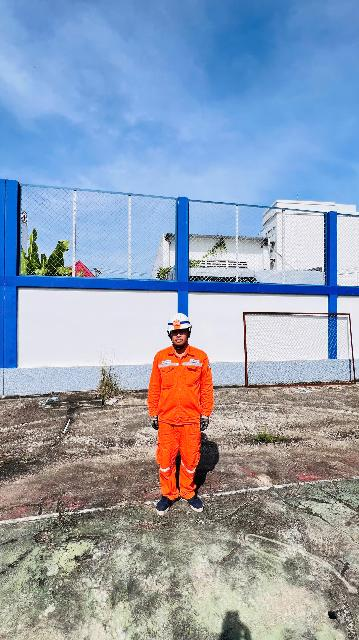gloves: (144, 411, 163, 428), (197, 415, 213, 431)
helmet: (158, 309, 200, 337)
shoes: (154, 488, 178, 515), (182, 489, 207, 514)
